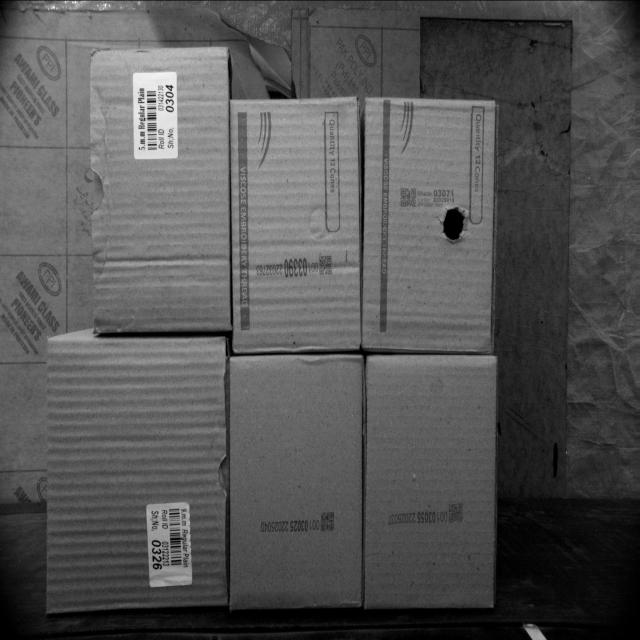cardboxes: (42, 340, 230, 609), (91, 48, 232, 336), (226, 352, 365, 611), (361, 96, 500, 352), (365, 352, 498, 609), (230, 97, 364, 350)
